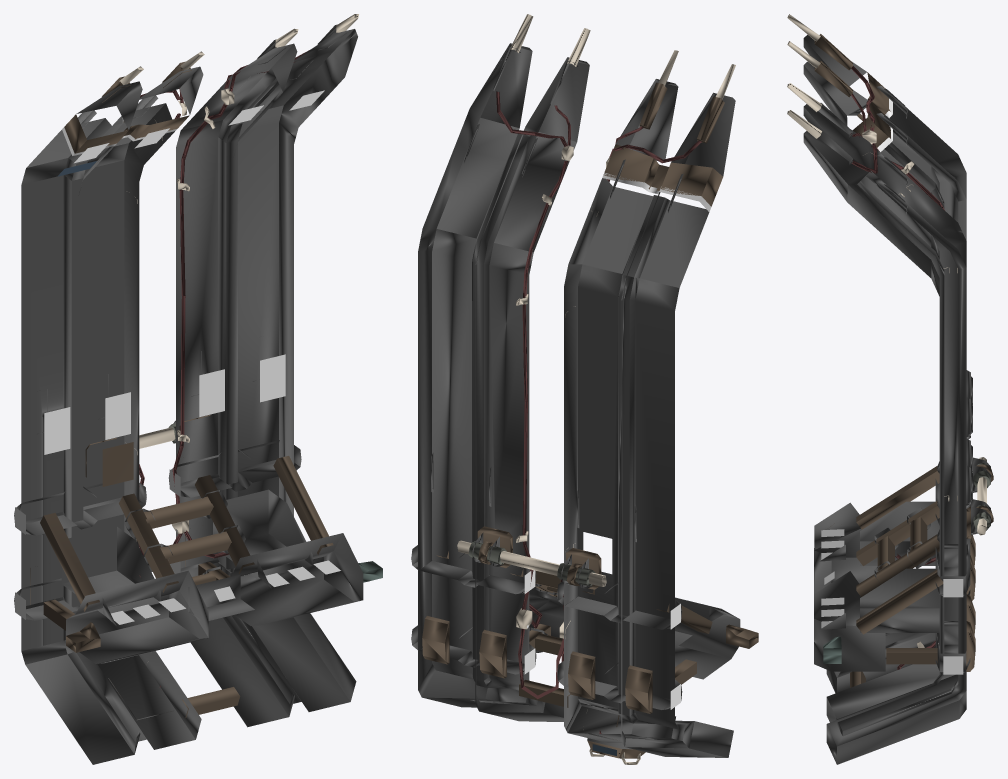
The model's file is faraday_cage002_b.glb.
3 renders of one model, left to right at view 1: azimuth 30°, elevation 25°; view 2: azimuth 150°, elevation 25°; view 3: azimuth 270°, elevation 25°, orthographic. The views are drawn at different scales.
Size of the model in its own units: 2.98 by 6.6 by 1.91.
